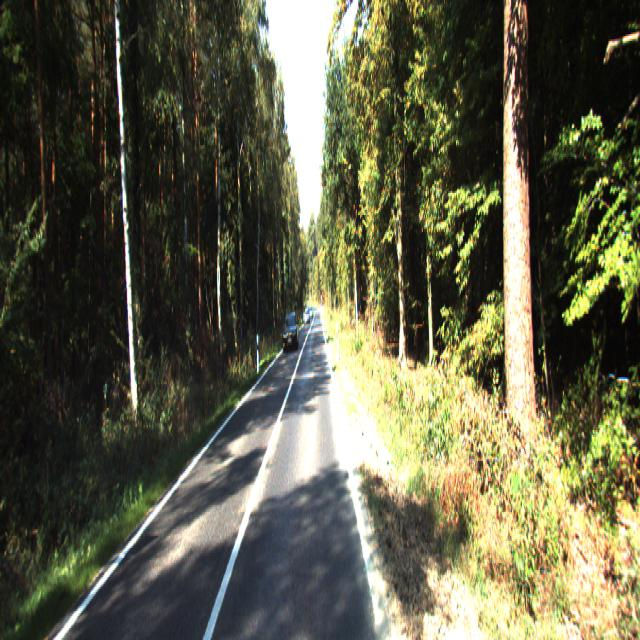Car: (282, 312, 298, 353)
